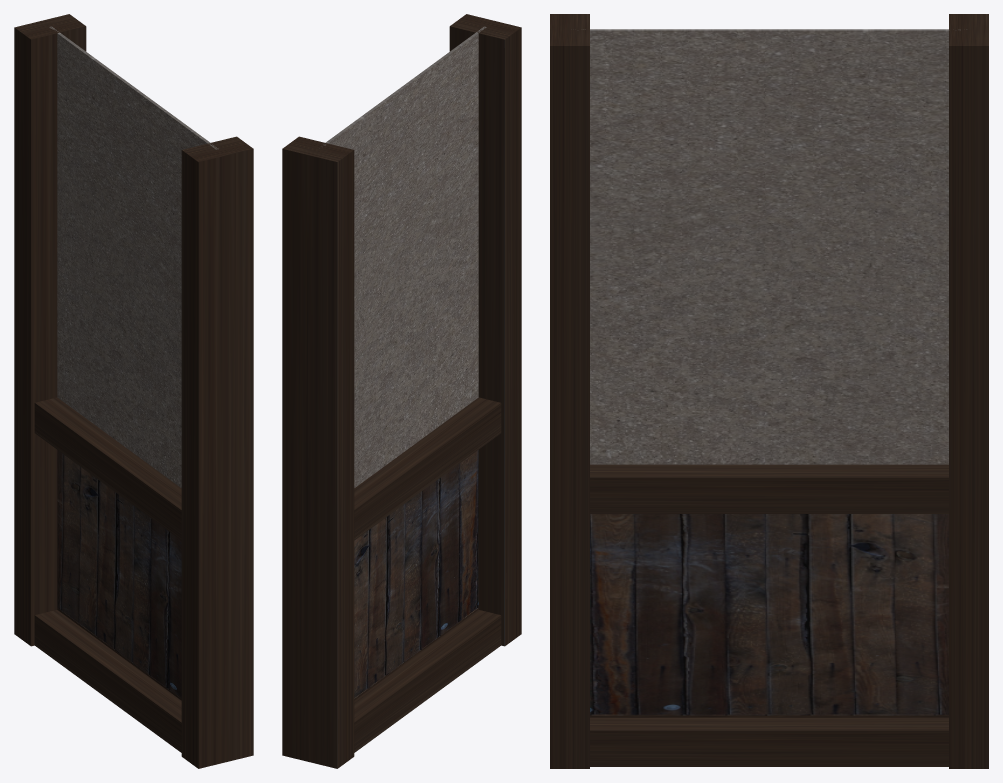
The model's file is OutdoorArchitecture_HalfWall_BothEdges_BShortt.fbx.
The picture shows the model from 3 angles, left to right: view 1: azimuth 30°, elevation 25°; view 2: azimuth 150°, elevation 25°; view 3: azimuth 270°, elevation 25°; orthographic projection. The views are drawn at different scales.
Visible parts, largest first — view 1: OutdoorArchitecture_HalfWall_BothEdges_BShortt; view 2: OutdoorArchitecture_HalfWall_BothEdges_BShortt; view 3: OutdoorArchitecture_HalfWall_BothEdges_BShortt.
Boxes of the visible parts, x1=… form: OutdoorArchitecture_HalfWall_BothEdges_BShortt: x1=14, y1=14, x2=253, y2=768; OutdoorArchitecture_HalfWall_BothEdges_BShortt: x1=282, y1=14, x2=521, y2=768; OutdoorArchitecture_HalfWall_BothEdges_BShortt: x1=550, y1=14, x2=988, y2=768.
Size of the model in its own units: 28.5 by 300 by 165.
